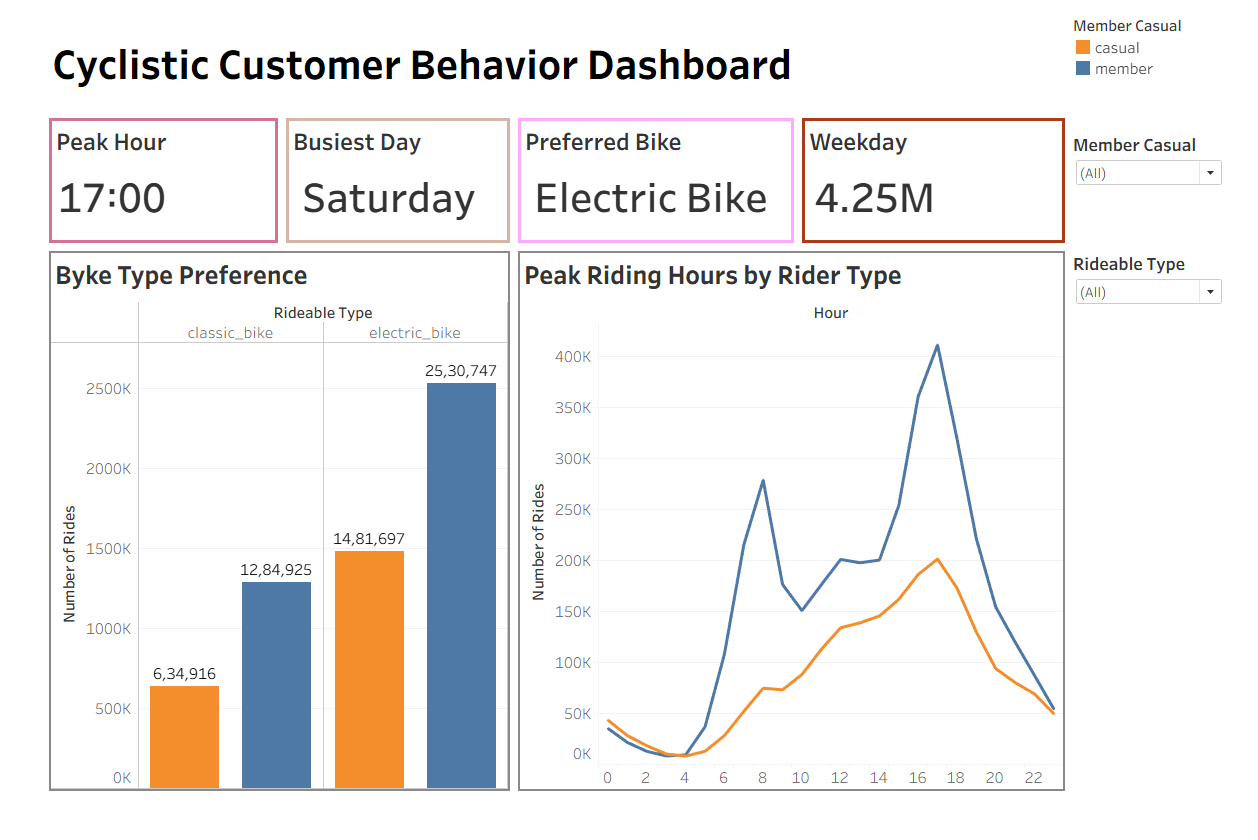

What the dashboard file says about the page in this screenshot:
{"tool":"tableau","page":{"name":"Dashboard 2","canvas":[1200,800],"ordinal":1},"visuals":[{"type":"text","box":[8,8,1024,103]},{"type":"legend","title":"Bike Type Preference","param":"[federated.0t9r60617wnb5r1elsbv509lvhdo].[none:member_casual:nk]","box":[1032,8,160,117]},{"type":"worksheet","title":"KPI - Peak Hour","mark":"Text","box":[8,111,237,133]},{"type":"worksheet","title":"KPI - Busiest Day","mark":"Text","box":[245,111,232,133]},{"type":"worksheet","title":"KPI - Preferred Bike","mark":"Text","box":[477,111,284,133]},{"type":"worksheet","title":"KPI - Weekday Rides","mark":"Text","box":[761,111,271,133]},{"type":"filter","title":"Bike Type Preference","param":"[federated.0t9r60617wnb5r1elsbv509lvhdo].[none:member_casual:nk]","box":[1032,125,160,119]},{"type":"worksheet","title":"Bike Type Preference","mark":"Automatic","rows":["ride_id"],"cols":["rideable_type","member_casual"],"box":[8,244,469,548]},{"type":"worksheet","title":"Peak Riding Hours","mark":"Line","rows":["ride_id"],"cols":["hour"],"box":[477,244,554.9,548]},{"type":"filter","title":"Bike Type Preference","param":"[federated.0t9r60617wnb5r1elsbv509lvhdo].[none:rideable_type:nk]","box":[1032,244,160,64]}]}

Visuals, with their boxes in screenshot pixels (x1, y1, x2, y2), scaled from the page's 1200x800 canvas onto the 1258x840 screenshot:
text: left=8, top=8, right=1082, bottom=117
"Bike Type Preference" legend: left=1082, top=8, right=1250, bottom=131
"KPI - Peak Hour" worksheet (Text marks): left=8, top=117, right=257, bottom=256
"KPI - Busiest Day" worksheet (Text marks): left=257, top=117, right=500, bottom=256
"KPI - Preferred Bike" worksheet (Text marks): left=500, top=117, right=798, bottom=256
"KPI - Weekday Rides" worksheet (Text marks): left=798, top=117, right=1082, bottom=256
"Bike Type Preference" filter: left=1082, top=131, right=1250, bottom=256
"Bike Type Preference" worksheet: left=8, top=256, right=500, bottom=832
"Peak Riding Hours" worksheet (Line marks): left=500, top=256, right=1082, bottom=832
"Bike Type Preference" filter: left=1082, top=256, right=1250, bottom=323
